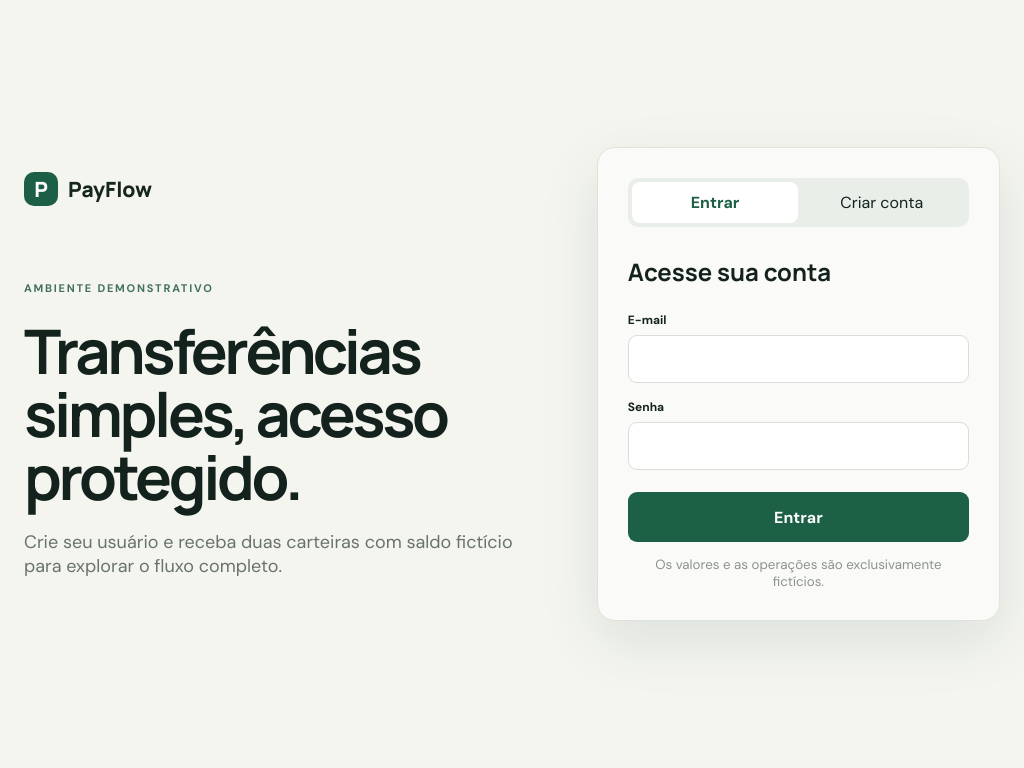
it: PayFlow dashboard › confirms a reversal and refreshes the history with the compensating operation
Step 1. Type "user@example.com" into the field labelled "E-mail" → [798, 359], box x1=628 y1=335 x2=969 y2=383
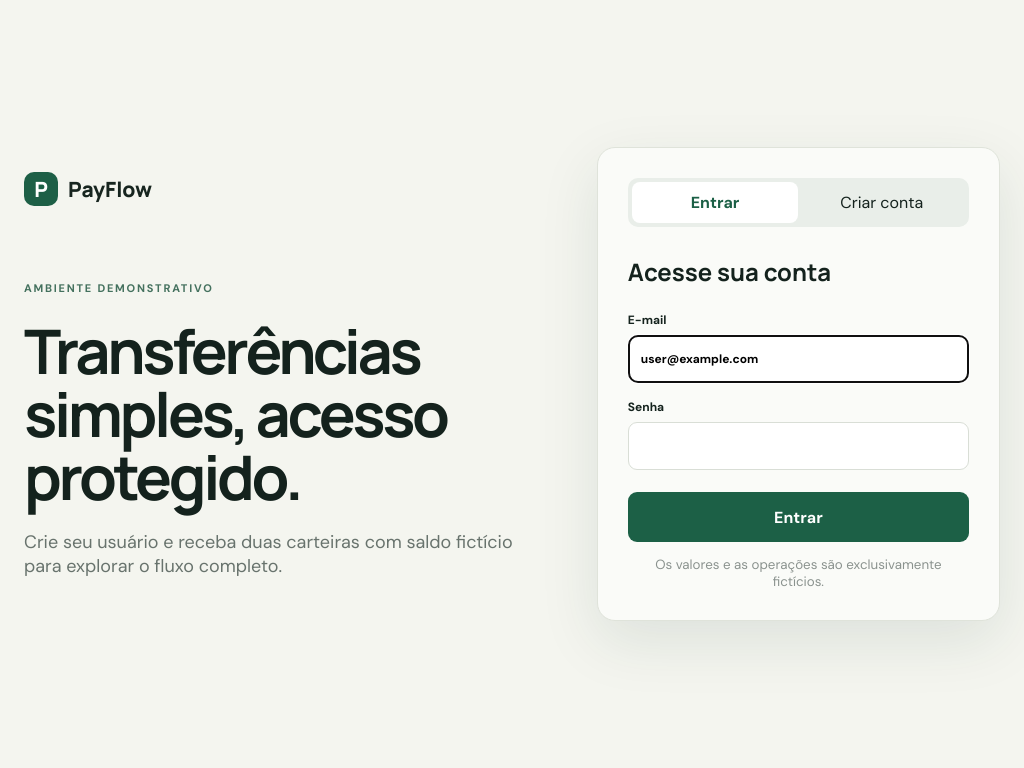
Step 2. Type "safe-password" into the password field labelled "Senha" → [798, 446], box x1=628 y1=422 x2=969 y2=470
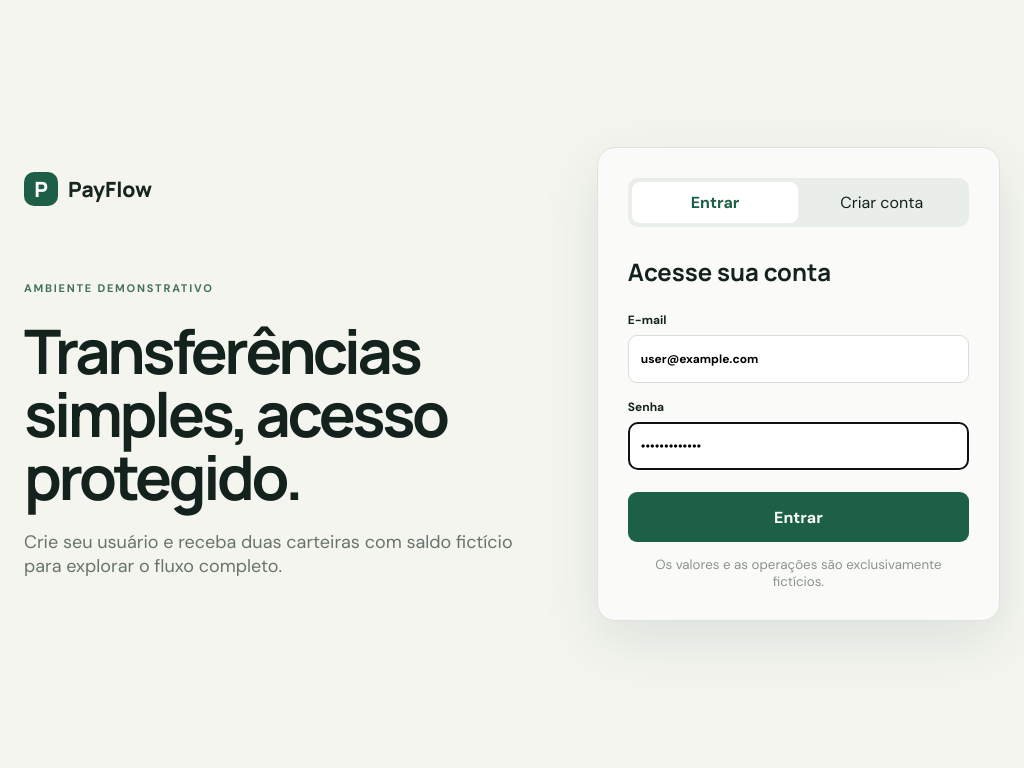
Step 3. Click the button "Entrar" → [798, 517], box x1=628 y1=492 x2=969 y2=542
(page scrolled)
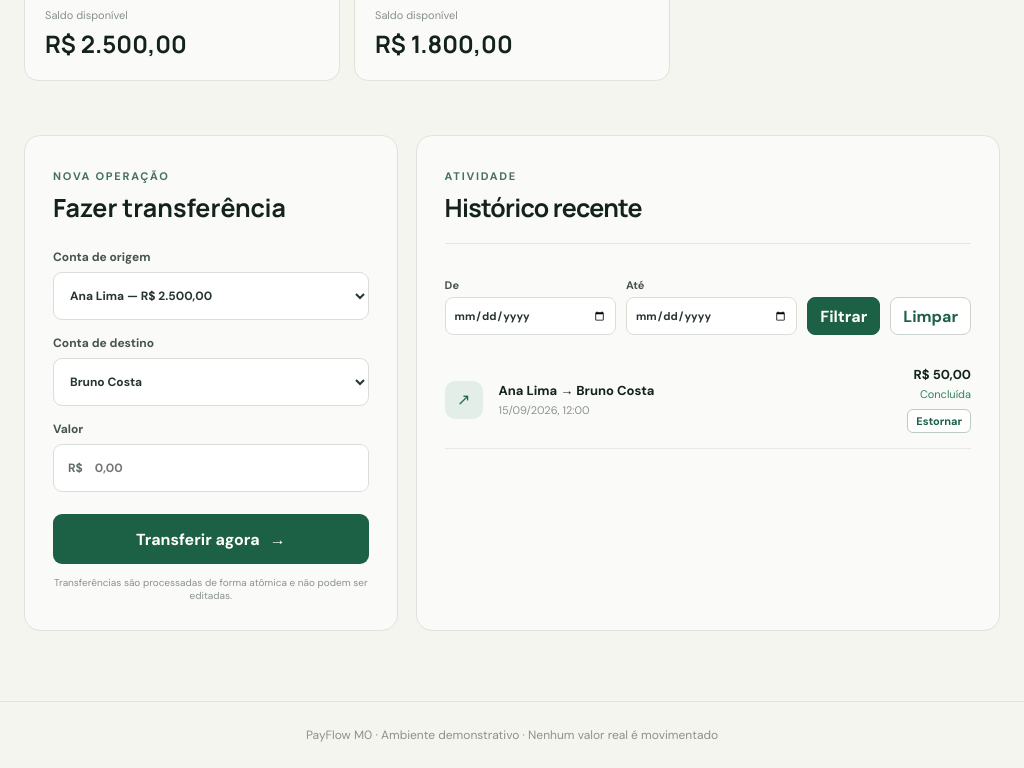
expect the text "Ana Lima → Bruno Costa" is shown: met, box x1=499 y1=382 x2=654 y2=400
Step 4. Click the button "Estornar" → [939, 422], box x1=907 y1=410 x2=971 y2=434
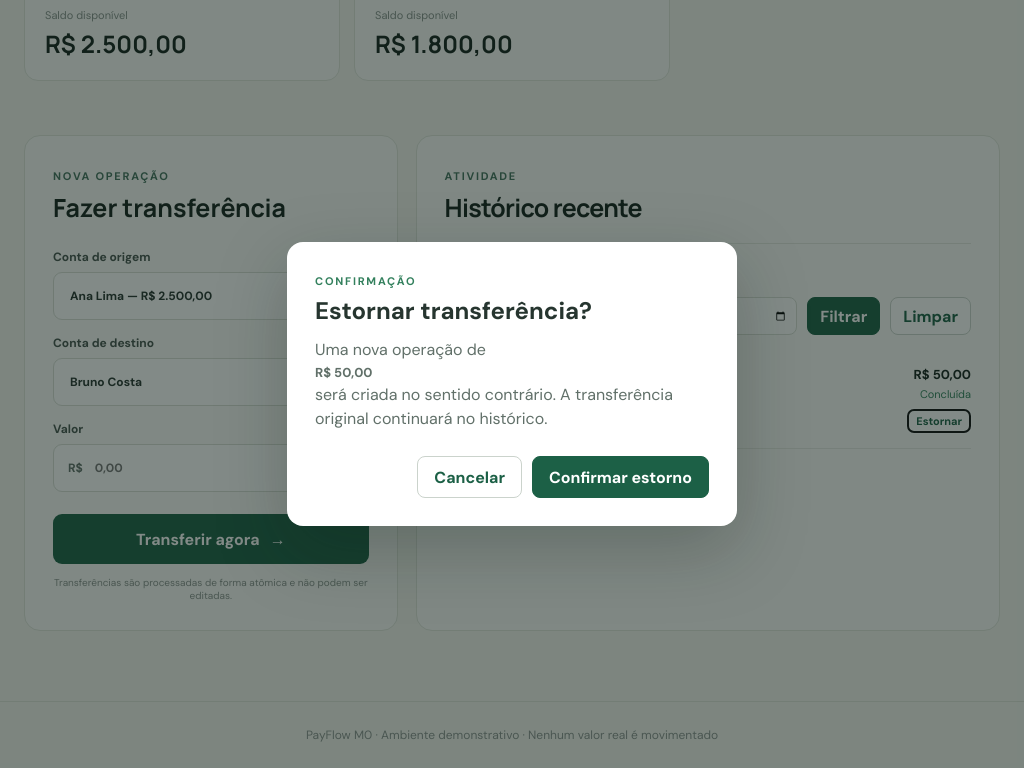
expect the dialog shows "A transferência original continuará no histórico.": met, box x1=315 y1=384 x2=673 y2=430
Step 5. Click the button "Confirmar estorno" → [620, 477], box x1=532 y1=456 x2=709 y2=498
(page scrolled)
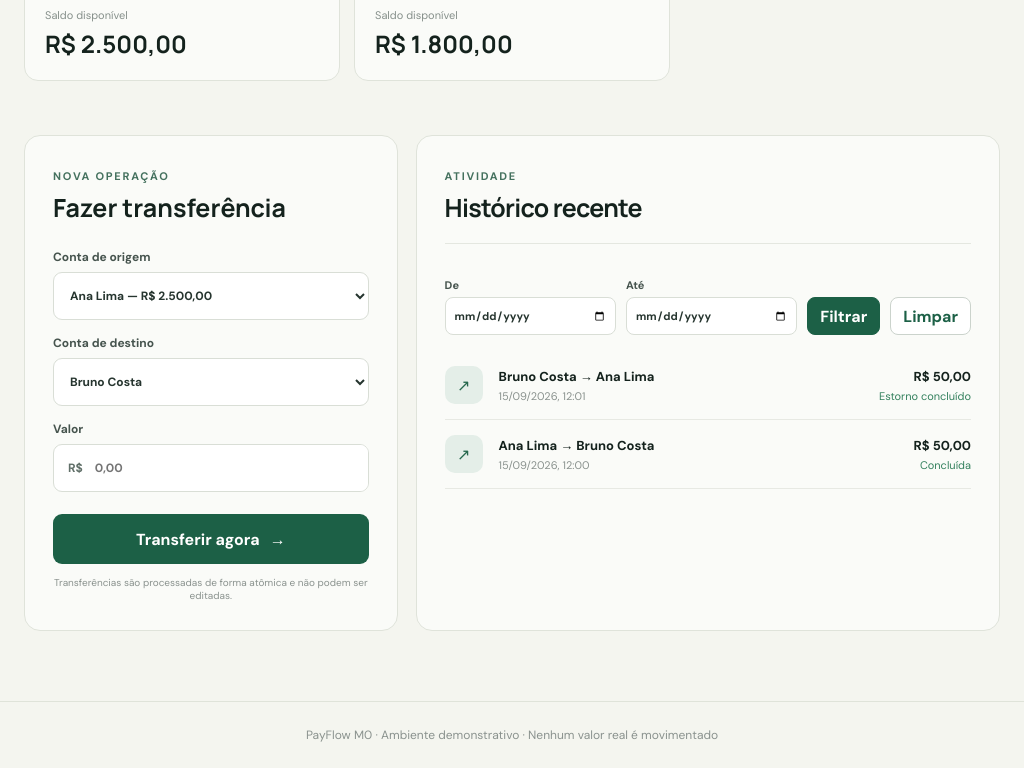
expect the text "Estorno concluído" is shown: met, box x1=879 y1=389 x2=971 y2=403
expect the button "Estornar" is gone: met
